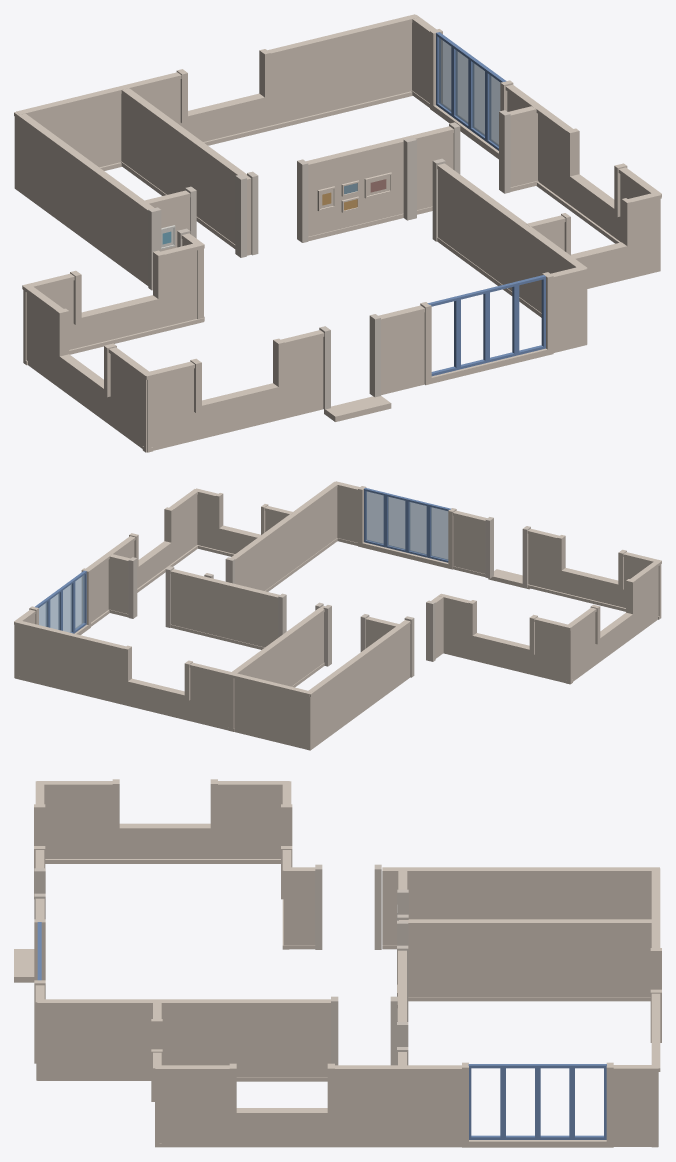
Rendered from wall-layout-home-transformed.glb.
3 views of the same model, one above another, from view 1: azimuth 30°, elevation 25°; view 2: azimuth 150°, elevation 25°; view 3: azimuth 270°, elevation 25° (orthographic). The views are drawn at different scales.
Visible parts, largest first — view 1: Merged Geometry 5, Merged Geometry.035, Merged Geometry.034, Merged Geometry 2.008, Merged Geometry.036, Merged Geometry.037, Merged Geometry.007, Cube 81.001; view 2: Merged Geometry 5, Merged Geometry.035, Merged Geometry.034, Merged Geometry 2.007, Merged Geometry.036, Merged Geometry 2.008, Merged Geometry.037, Cube 81.001; view 3: Merged Geometry 5, Merged Geometry.035, Merged Geometry.034, Merged Geometry.037, Cube 81.001.
Boxes of the visible parts, bbox=[...] form: Merged Geometry 5: bbox=[14, 14, 661, 452]; Merged Geometry.035: bbox=[56, 29, 627, 412]; Merged Geometry.034: bbox=[148, 110, 510, 409]; Merged Geometry 2.008: bbox=[439, 38, 500, 146]; Merged Geometry.036: bbox=[427, 275, 545, 376]; Merged Geometry.037: bbox=[436, 32, 506, 150]; Merged Geometry.007: bbox=[317, 172, 391, 212]; Cube 81.001: bbox=[324, 396, 391, 421]; Merged Geometry 5: bbox=[14, 481, 661, 750]; Merged Geometry.035: bbox=[29, 486, 635, 700]; Merged Geometry.034: bbox=[128, 517, 530, 677]; Merged Geometry 2.007: bbox=[366, 491, 448, 559]; Merged Geometry.036: bbox=[364, 488, 451, 562]; Merged Geometry 2.008: bbox=[39, 575, 84, 632]; Merged Geometry.037: bbox=[35, 570, 86, 633]; Cube 81.001: bbox=[488, 569, 529, 589]; Merged Geometry 5: bbox=[35, 781, 660, 1147]; Merged Geometry.035: bbox=[34, 779, 661, 1147]; Merged Geometry.034: bbox=[34, 864, 408, 1065]; Merged Geometry.037: bbox=[468, 1064, 606, 1139]; Cube 81.001: bbox=[14, 949, 34, 982].
Size of the model in its own units: 18.93 by 2.62 by 17.93.
